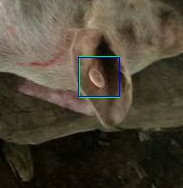text: (79, 56, 119, 97)
